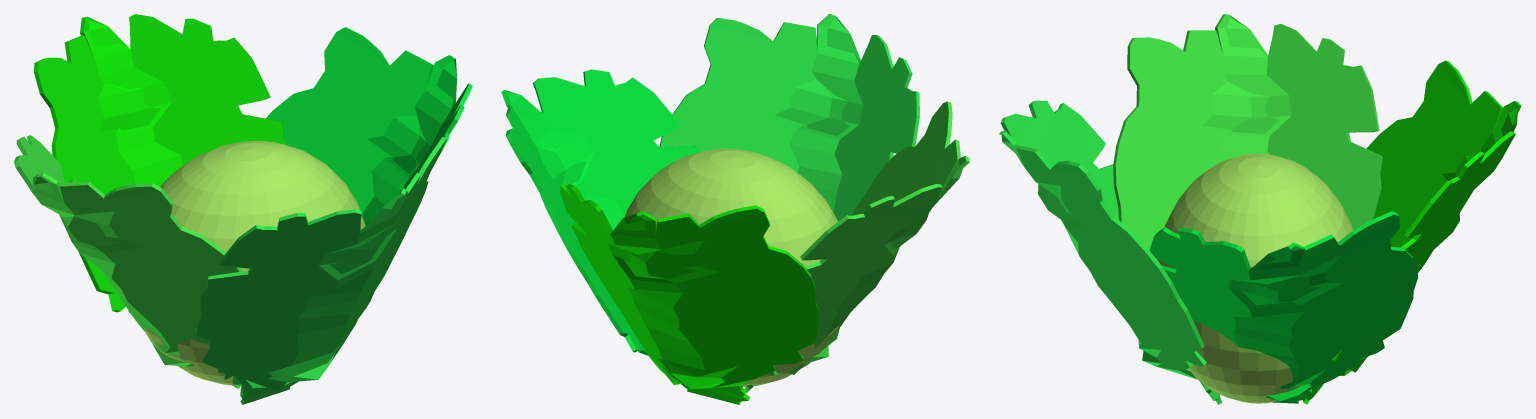
The model's file is Lettuce Growing.fbx.
3 views of the same model, side by side, from view 1: azimuth 30°, elevation 25°; view 2: azimuth 150°, elevation 25°; view 3: azimuth 270°, elevation 25° (orthographic). The views are drawn at different scales.
Parts seen in each view (by area): view 1: Cube.002, Cube.001, Cube, Cube.003, Sphere; view 2: Cube.002, Cube.001, Cube, Cube.003, Sphere; view 3: Cube.003, Cube, Cube.001, Sphere, Cube.002.
Part boxes in pixels (x1,y1,x2,y2): Cube.002: [34, 14, 286, 312]; Cube.001: [196, 136, 446, 404]; Cube: [266, 27, 472, 225]; Cube.003: [14, 135, 242, 388]; Sphere: [144, 141, 365, 385]; Cube.002: [560, 183, 818, 404]; Cube.001: [659, 14, 919, 307]; Cube: [501, 69, 699, 389]; Cube.003: [744, 101, 969, 393]; Sphere: [624, 148, 839, 386]; Cube.003: [1113, 14, 1382, 259]; Cube: [1149, 211, 1418, 403]; Cube.001: [999, 100, 1221, 404]; Sphere: [1157, 153, 1353, 403]; Cube.002: [1303, 60, 1521, 404].
Bounding box in the file's own units: 3082 × 1867 × 3106.
